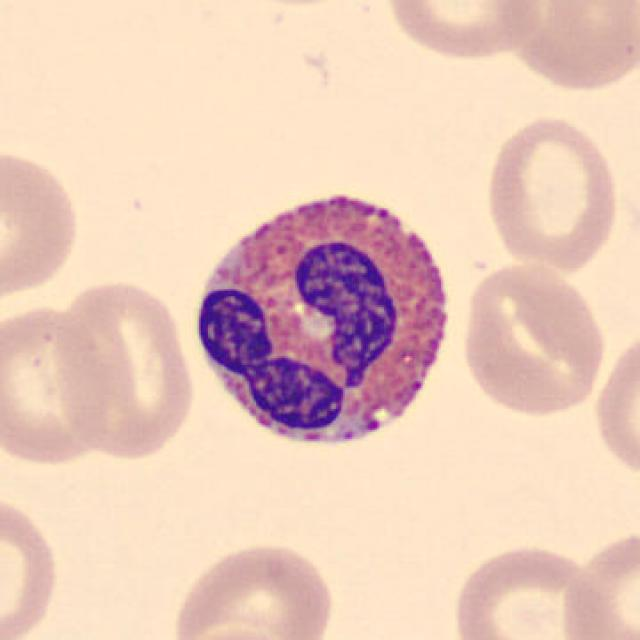Eosinophil: (181, 173, 466, 472)
RBC: (50, 273, 199, 464), (457, 259, 610, 420), (480, 109, 622, 275), (0, 298, 123, 469), (166, 536, 340, 640), (446, 539, 616, 640), (0, 143, 84, 308), (496, 0, 640, 95), (380, 0, 547, 63), (0, 488, 64, 640), (556, 523, 639, 640), (590, 322, 640, 487), (174, 624, 297, 640)
